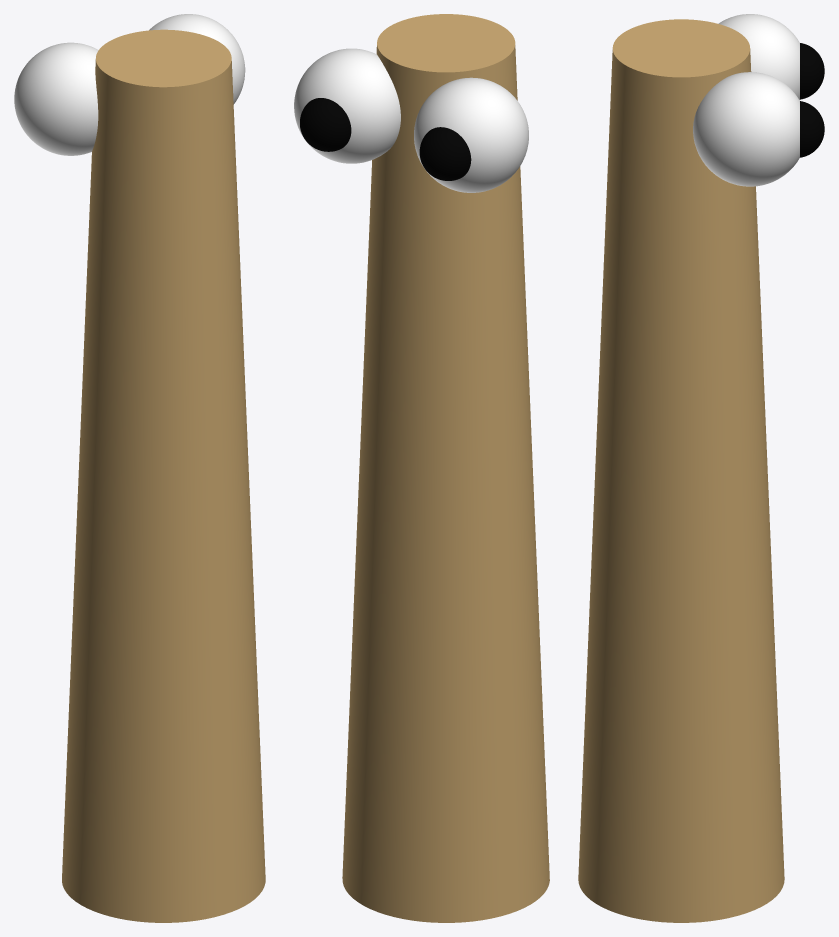
File: baguette_vivante.glb
3 views of the same model, side by side, from view 1: azimuth 30°, elevation 25°; view 2: azimuth 150°, elevation 25°; view 3: azimuth 270°, elevation 25° (orthographic).
Visible parts, largest first — view 1: Body, LeftEye, RightEye; view 2: Body, LeftEye, RightEye, RightPupil, LeftPupil; view 3: Body, RightEye, LeftEye, RightPupil, LeftPupil.
Boxes of the visible parts, bbox=[...] form: Body: bbox=[62, 29, 265, 922]; LeftEye: bbox=[14, 42, 98, 155]; RightEye: bbox=[149, 14, 245, 104]; Body: bbox=[342, 14, 549, 922]; LeftEye: bbox=[414, 77, 528, 192]; RightEye: bbox=[294, 48, 400, 163]; RightPupil: bbox=[300, 98, 351, 151]; LeftPupil: bbox=[419, 127, 471, 180]; Body: bbox=[578, 19, 784, 922]; RightEye: bbox=[693, 72, 799, 186]; LeftEye: bbox=[718, 14, 799, 99]; RightPupil: bbox=[800, 101, 824, 157]; LeftPupil: bbox=[800, 43, 824, 99].
Size of the model in its own units: 0.4398 by 1.6 by 0.4299.
